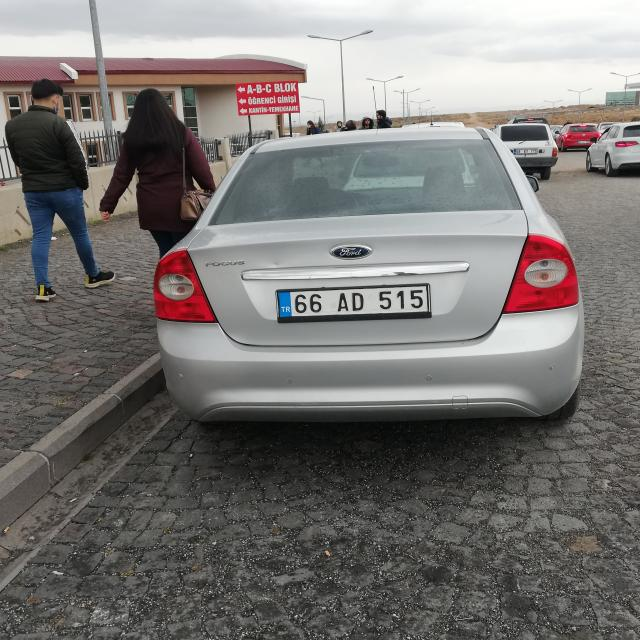license_plate: (278, 284, 429, 318)
